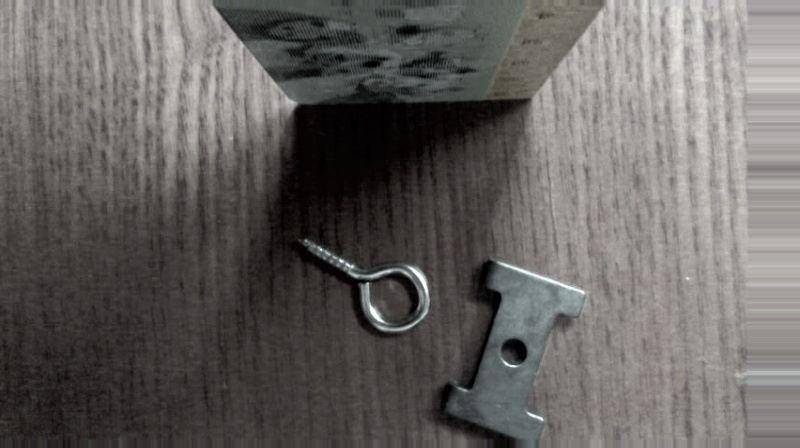O001: (295, 234, 434, 335)
O002: (439, 256, 588, 440)
